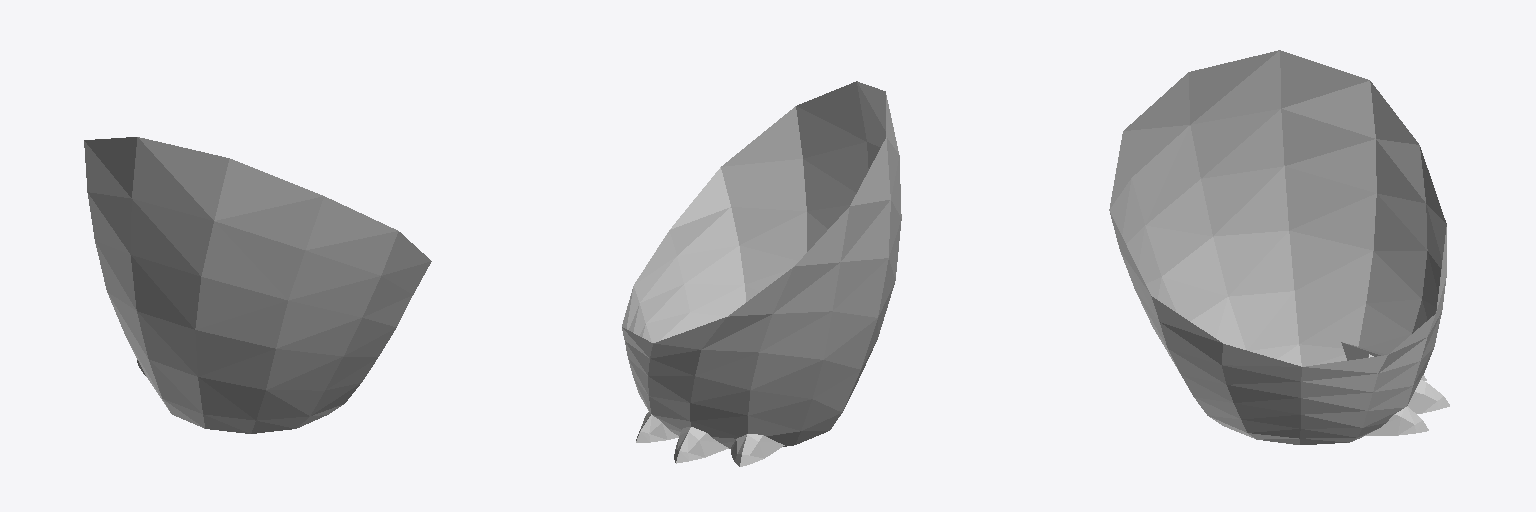
The model's file is izqTrasBul.obj.
3 views of the same model, side by side, from view 1: azimuth 30°, elevation 25°; view 2: azimuth 150°, elevation 25°; view 3: azimuth 270°, elevation 25° (orthographic).
Parts seen in each view (by area): view 1: LThigh, LFoot, LLeg, Hips; view 2: LThigh, Hips, LLeg, LToe, LFoot; view 3: LThigh, LLeg, LFoot, Hips, LToe.
Part boxes in pixels (x1,y1,x2,y2): LThigh: (84, 137, 431, 355); LFoot: (108, 294, 377, 433); LLeg: (95, 242, 395, 389); Hips: (84, 137, 430, 275); LThigh: (622, 83, 901, 402); Hips: (622, 81, 898, 357); LLeg: (646, 212, 895, 415); LToe: (633, 377, 827, 466); LFoot: (690, 285, 877, 430); LThigh: (1109, 51, 1446, 414); LLeg: (1146, 166, 1427, 428); LFoot: (1162, 231, 1372, 444); Hips: (1109, 50, 1446, 373); LToe: (1305, 304, 1449, 442).
Bounding box in the file's own units: 4.37 × 4.9 × 5.1.